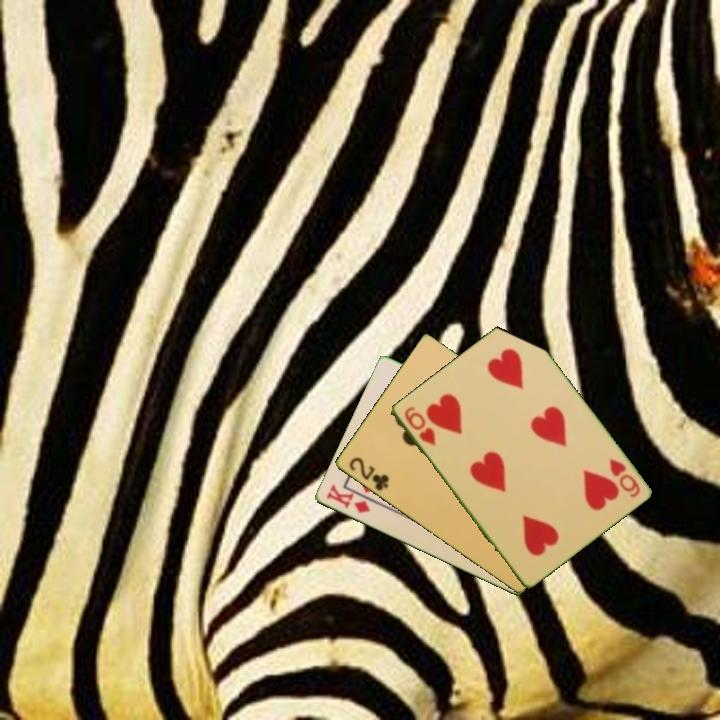2c: (345, 454, 392, 494)
6h: (400, 403, 438, 449), (605, 455, 643, 500)
Kd: (322, 481, 373, 517)
